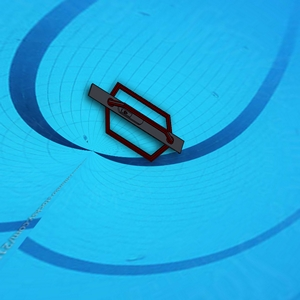submarine: (90, 85, 186, 164)
